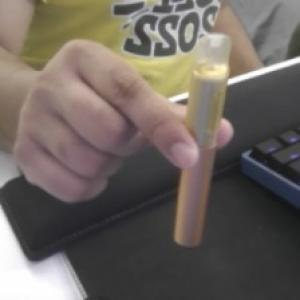Golden-E-Ciggirate: (171, 28, 234, 252)
